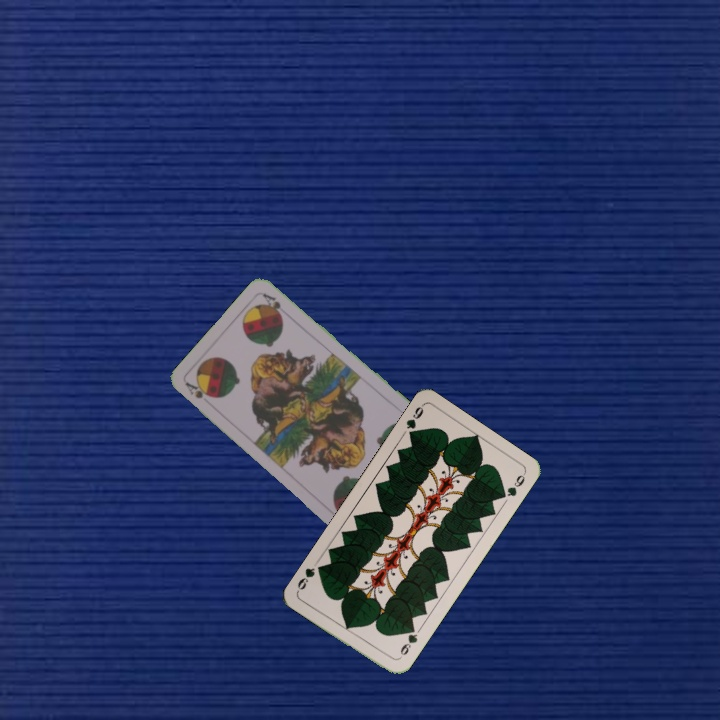G9: (394, 623, 420, 662), (402, 401, 426, 441)
SA: (181, 378, 215, 401)
